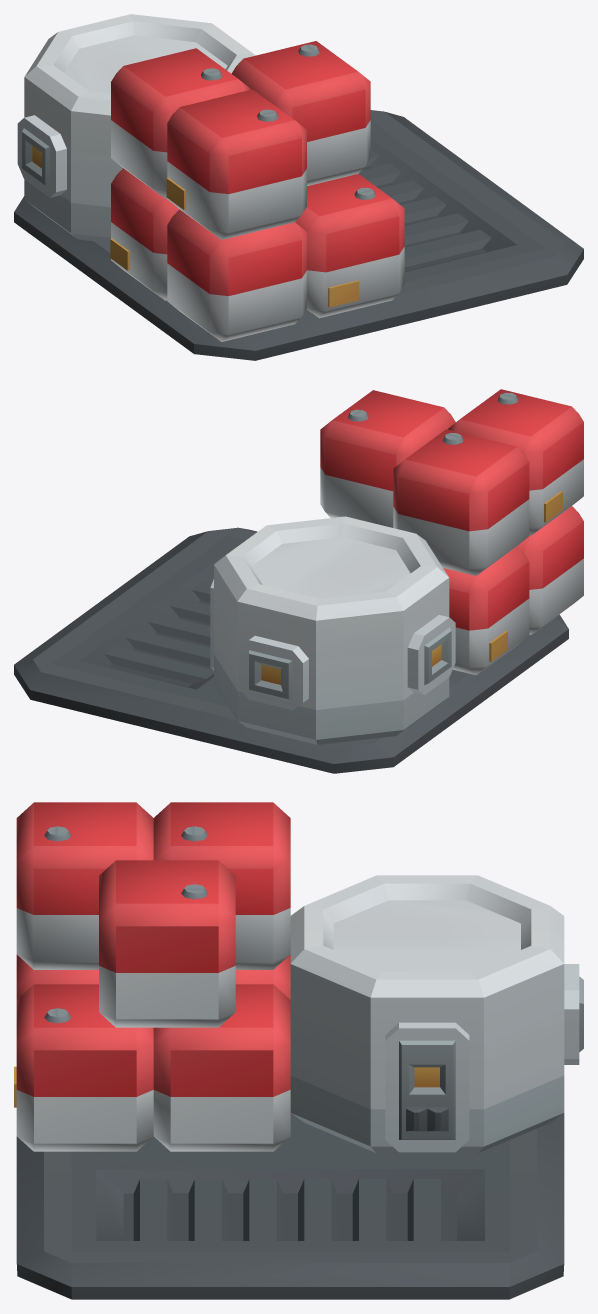
Rendered from kay-deposito-carga.gltf.
The picture shows the model from 3 angles, top to bottom: view 1: azimuth 30°, elevation 25°; view 2: azimuth 150°, elevation 25°; view 3: azimuth 270°, elevation 25°; orthographic projection. The views are drawn at different scales.
Visible parts, largest first — view 1: cargodepot_A; view 2: cargodepot_A; view 3: cargodepot_A.
Part boxes in pixels (bbox=[...]): cargodepot_A: bbox=[14, 14, 583, 360]; cargodepot_A: bbox=[14, 389, 583, 773]; cargodepot_A: bbox=[14, 802, 583, 1299].
Bounding box in the file's own units: 5.39 × 2.91 × 5.41.
Materials: 1 (1 with a texture image).
